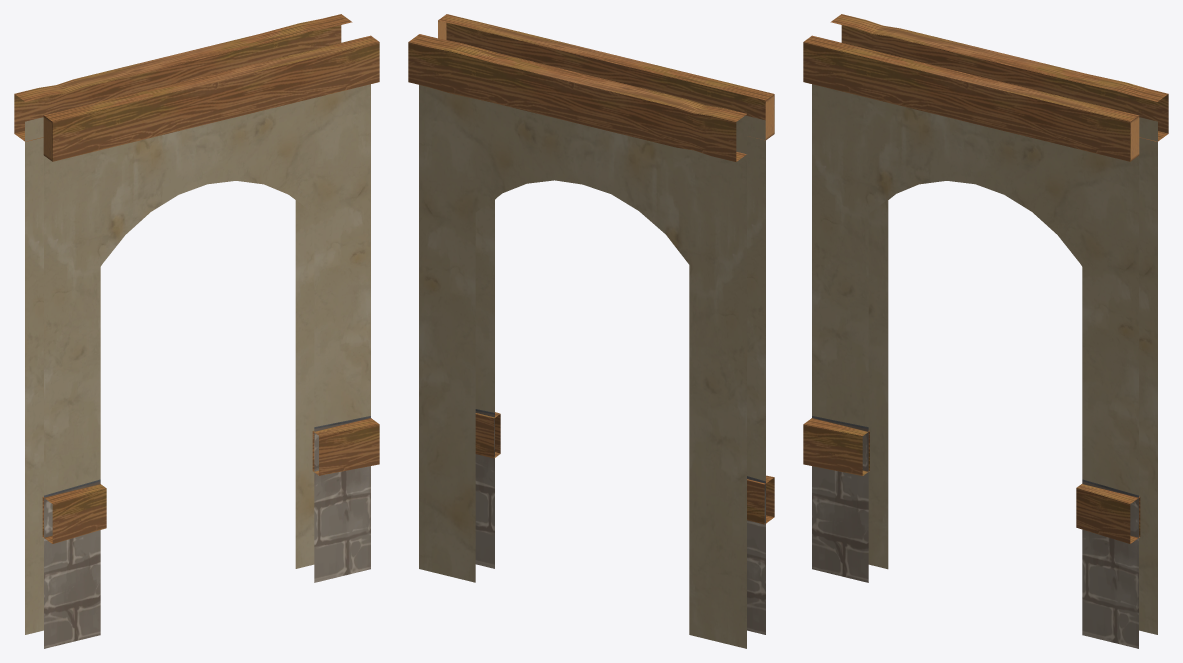
Rendered from round-door-wall.glb.
3 views of the same model, side by side, from view 1: azimuth 30°, elevation 25°; view 2: azimuth 150°, elevation 25°; view 3: azimuth 330°, elevation 25° (orthographic).
Parts seen in each view (by area): view 1: Wall_Plaster_Door_Round; view 2: Wall_Plaster_Door_Round; view 3: Wall_Plaster_Door_Round.
Part boxes in pixels (bbox=[...]): Wall_Plaster_Door_Round: bbox=[14, 14, 379, 648]; Wall_Plaster_Door_Round: bbox=[408, 14, 774, 648]; Wall_Plaster_Door_Round: bbox=[803, 14, 1168, 648].
Bounding box in the file's own units: 2 × 3.12 × 0.4066.
3 materials, 3 textured.
